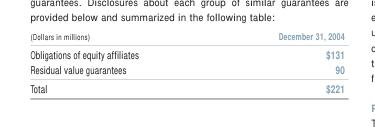table: (29, 29, 343, 95)
table column: (29, 29, 207, 95), (207, 29, 343, 95)
table column header: (29, 29, 343, 44)
table row: (29, 44, 343, 61), (29, 61, 343, 78), (29, 78, 343, 95), (29, 29, 343, 44)
